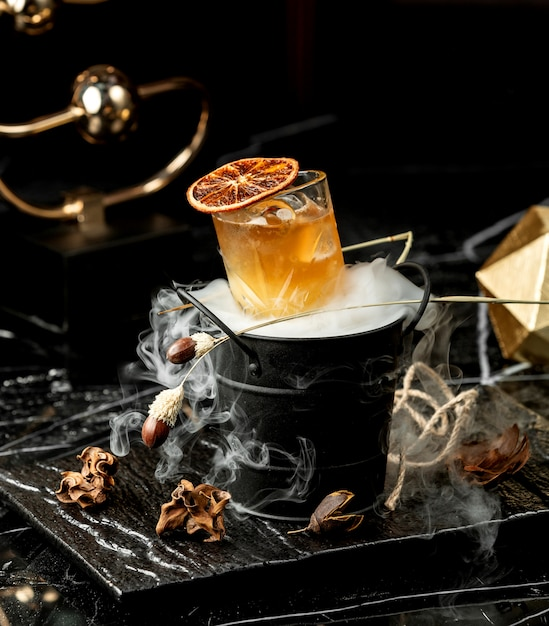alcohol: (189, 154, 368, 321)
